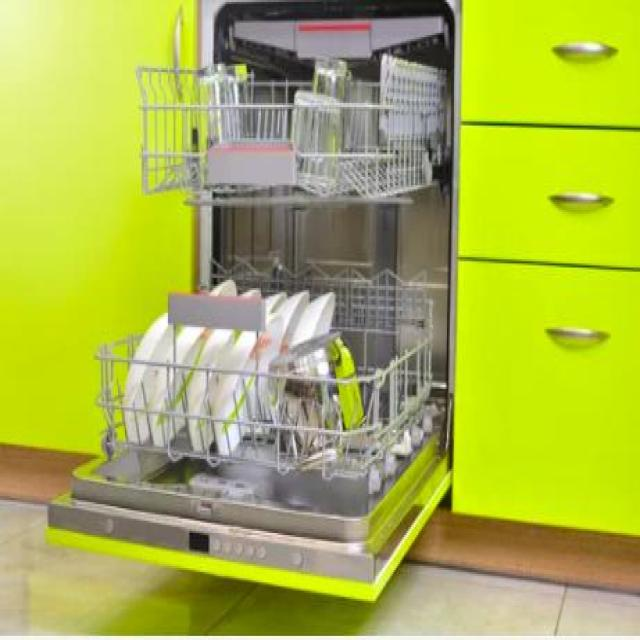dishwasher: (46, 0, 462, 603)
